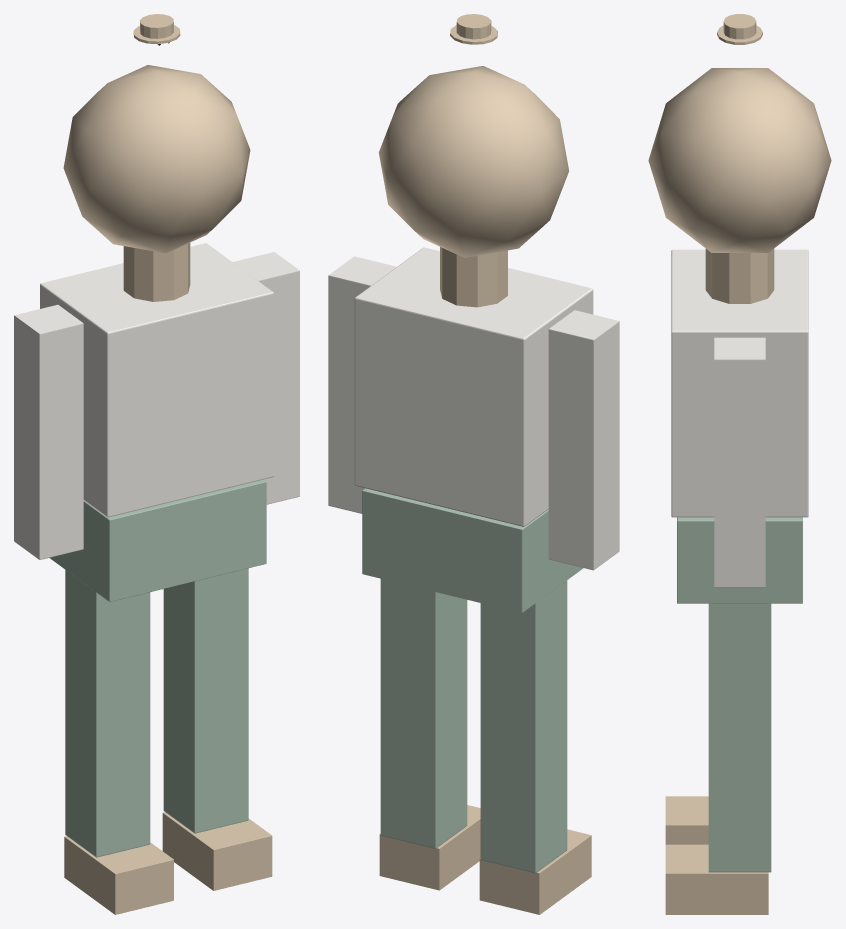
File: bea-houseboat.glb
The picture shows the model from 3 angles, left to right: view 1: azimuth 30°, elevation 25°; view 2: azimuth 150°, elevation 25°; view 3: azimuth 270°, elevation 25°; orthographic projection.
Parts seen in each view (by area): view 1: bea-houseboat_Body, bea-houseboat_Head, bea-houseboat_LeftLeg, bea-houseboat_RightLeg, bea-houseboat_LeftArm, bea-houseboat_Hips, bea-houseboat_RightArm, bea-houseboat_RightShoe, bea-houseboat_LeftShoe, bea-houseboat_Neck, bea-houseboat_HatCrown; view 2: bea-houseboat_Body, bea-houseboat_Head, bea-houseboat_LeftLeg, bea-houseboat_RightLeg, bea-houseboat_LeftArm, bea-houseboat_Hips, bea-houseboat_RightArm, bea-houseboat_LeftShoe, bea-houseboat_RightShoe, bea-houseboat_Neck, bea-houseboat_HatCrown; view 3: bea-houseboat_Head, bea-houseboat_Body, bea-houseboat_RightLeg, bea-houseboat_RightArm, bea-houseboat_Hips, bea-houseboat_RightShoe, bea-houseboat_Neck, bea-houseboat_LeftShoe, bea-houseboat_HatCrown.
Boxes of the visible parts, box(x1,y1,x2,y2) form: bea-houseboat_Body: box(40, 243, 273, 517); bea-houseboat_Head: box(63, 65, 250, 253); bea-houseboat_LeftLeg: box(65, 570, 150, 857); bea-houseboat_RightLeg: box(163, 568, 248, 833); bea-houseboat_LeftArm: box(14, 304, 83, 559); bea-houseboat_Hips: box(49, 479, 266, 601); bea-houseboat_RightArm: box(232, 252, 299, 504); bea-houseboat_RightShoe: box(162, 812, 272, 890); bea-houseboat_LeftShoe: box(64, 836, 173, 914); bea-houseboat_Neck: box(123, 243, 190, 301); bea-houseboat_HatCrown: box(140, 14, 173, 38); bea-houseboat_Body: box(354, 247, 593, 526); bea-houseboat_Head: box(378, 66, 568, 257); bea-houseboat_LeftLeg: box(480, 580, 567, 873); bea-houseboat_RightLeg: box(380, 579, 467, 848); bea-houseboat_LeftArm: box(548, 310, 619, 570); bea-houseboat_Hips: box(362, 488, 583, 612); bea-houseboat_RightArm: box(328, 256, 396, 513); bea-houseboat_LeftShoe: box(479, 829, 591, 914); bea-houseboat_RightShoe: box(379, 805, 480, 890); bea-houseboat_Neck: box(440, 247, 507, 307); bea-houseboat_HatCrown: box(456, 14, 491, 39); bea-houseboat_Head: box(648, 68, 831, 252); bea-houseboat_Body: box(671, 249, 808, 517); bea-houseboat_RightLeg: box(708, 603, 771, 872); bea-houseboat_RightArm: box(714, 337, 765, 587); bea-houseboat_Hips: box(677, 517, 802, 603); bea-houseboat_RightShoe: box(665, 844, 768, 914); bea-houseboat_Neck: box(705, 249, 774, 303); bea-houseboat_LeftShoe: box(665, 796, 708, 844); bea-houseboat_HatCrown: box(723, 14, 756, 39).
Size of the model in its own units: 0.53 by 1.65 by 0.32.
